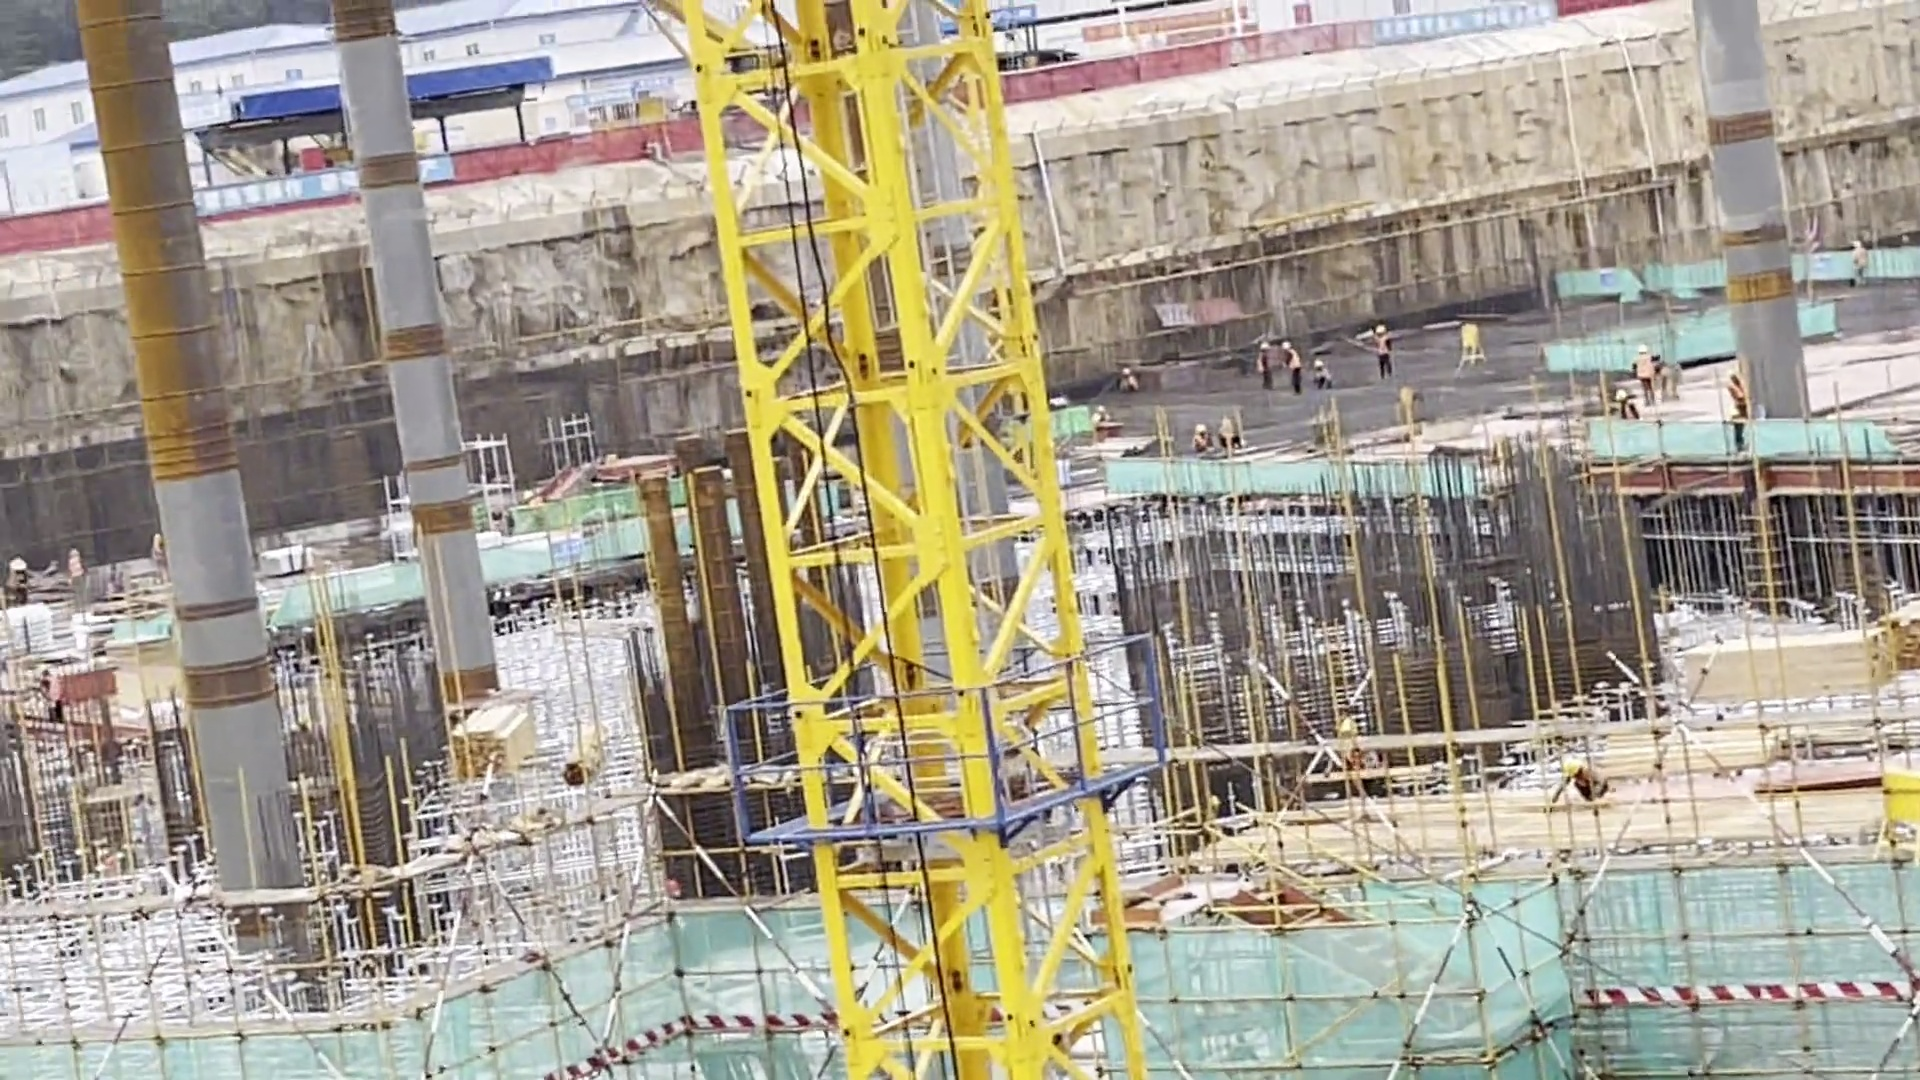helmet: (1636, 340, 1649, 357)
person: (1541, 741, 1618, 824), (1725, 364, 1780, 435), (1324, 714, 1380, 781), (1363, 313, 1409, 385), (1088, 399, 1150, 448), (1629, 339, 1663, 411), (1275, 338, 1310, 406), (1245, 335, 1278, 400), (1186, 416, 1220, 477), (1218, 406, 1253, 460), (1613, 380, 1650, 423), (1111, 368, 1147, 403)
